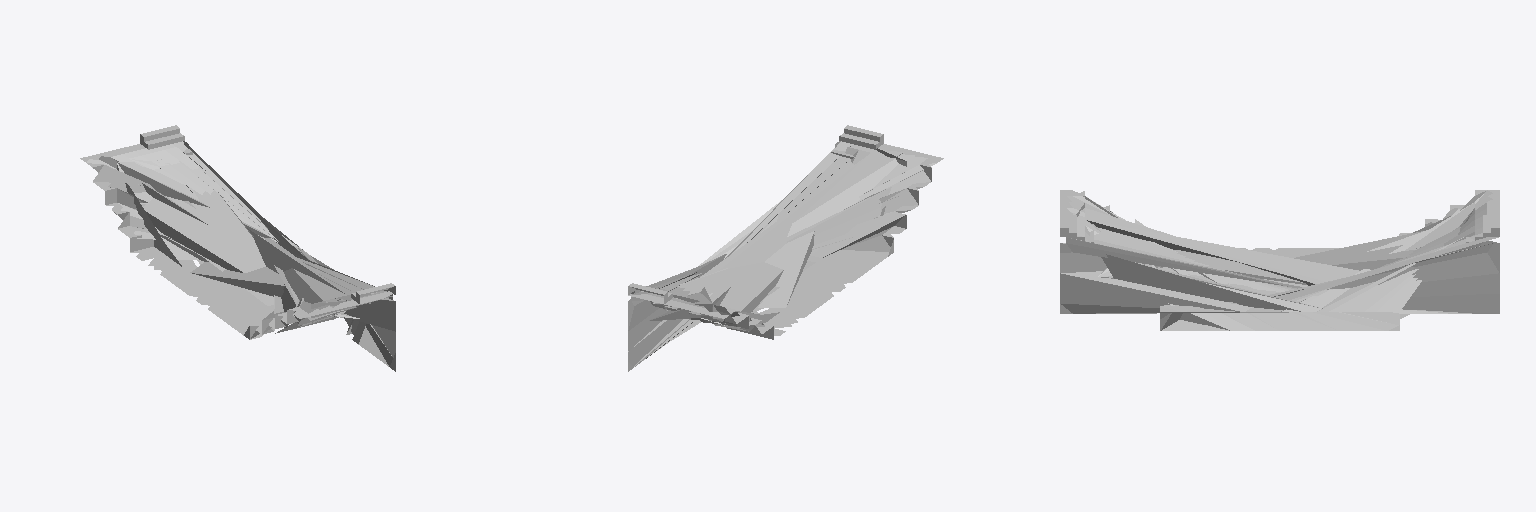
The model's file is map2c.obj.
3 renders of one model, left to right at view 1: azimuth 30°, elevation 25°; view 2: azimuth 150°, elevation 25°; view 3: azimuth 270°, elevation 25°, orthographic.
Visible parts, largest first — view 1: Mesh11 Model, Mesh8 stair8 Model; view 2: Mesh11 Model, Mesh3 stair3 Model; view 3: Mesh11 Model.
Boxes of the visible parts, x1=… form: Mesh11 Model: x1=80, y1=141, x2=395, y2=371; Mesh8 stair8 Model: x1=140, y1=125, x2=184, y2=149; Mesh11 Model: x1=628, y1=141, x2=943, y2=371; Mesh3 stair3 Model: x1=839, y1=125, x2=883, y2=149; Mesh11 Model: x1=1060, y1=190, x2=1499, y2=330.
Size of the model in its own units: 550 by 341 by 1580.